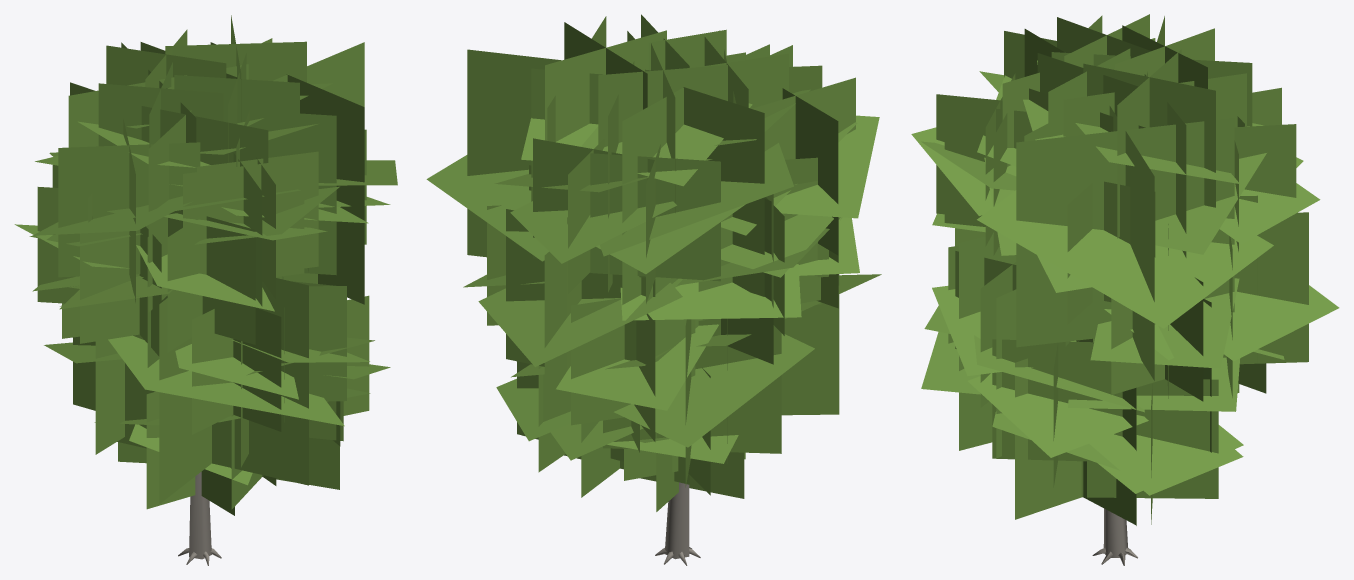
Rendered from tilleul_2_loin.glb.
3 renders of one model, left to right at view 1: azimuth 30°, elevation 25°; view 2: azimuth 150°, elevation 25°; view 3: azimuth 270°, elevation 25°, orthographic. The views are drawn at different scales.
Visible parts, largest first — view 1: Tilleul_T2_Leger_Loin; view 2: Tilleul_T2_Leger_Loin; view 3: Tilleul_T2_Leger_Loin.
Part boxes in pixels (box(x1,y1,x2,y2)): Tilleul_T2_Leger_Loin: box(14, 15, 397, 565); Tilleul_T2_Leger_Loin: box(426, 14, 881, 565); Tilleul_T2_Leger_Loin: box(911, 14, 1339, 565).
Size of the model in its own units: 9.24 by 11.09 by 8.5.
